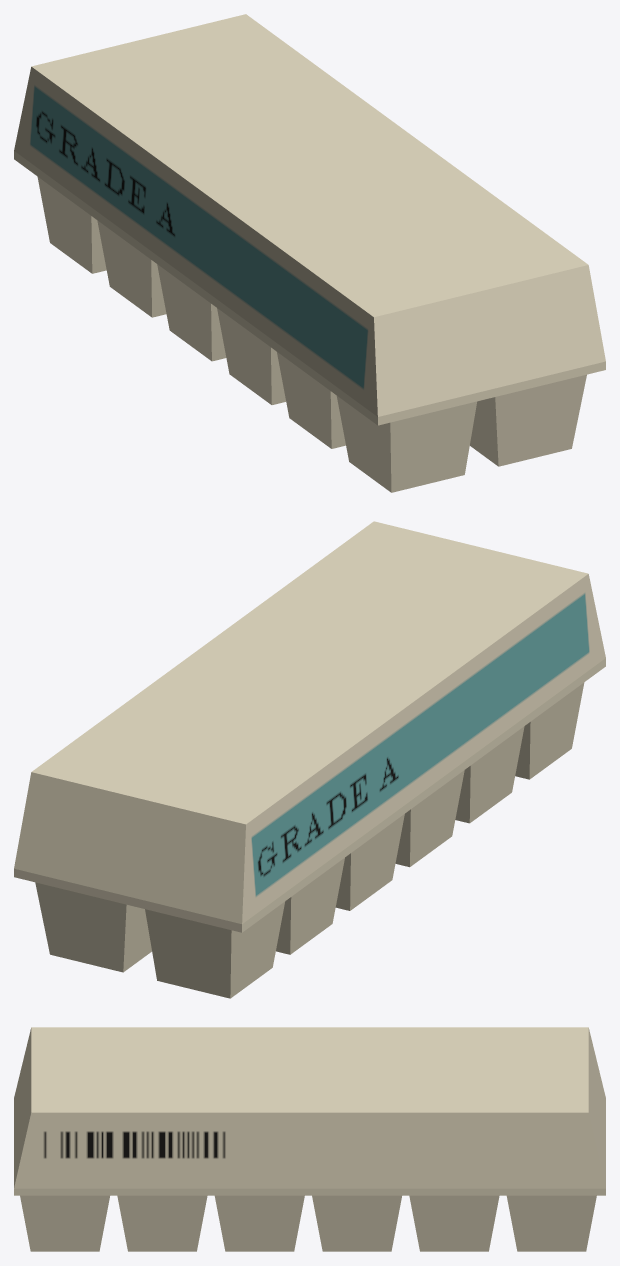
File: Eggs.fbx
3 renders of one model, top to bottom at view 1: azimuth 30°, elevation 25°; view 2: azimuth 150°, elevation 25°; view 3: azimuth 270°, elevation 25°, orthographic. The views are drawn at different scales.
Visible parts, largest first — view 1: Cube.163; view 2: Cube.163; view 3: Cube.163.
Boxes of the visible parts, left/top/right/bottom form: Cube.163: left=14, top=14, right=605, bottom=492; Cube.163: left=14, top=521, right=605, bottom=998; Cube.163: left=14, top=1027, right=605, bottom=1251.
Size of the model in its own units: 162 by 122 by 446.
